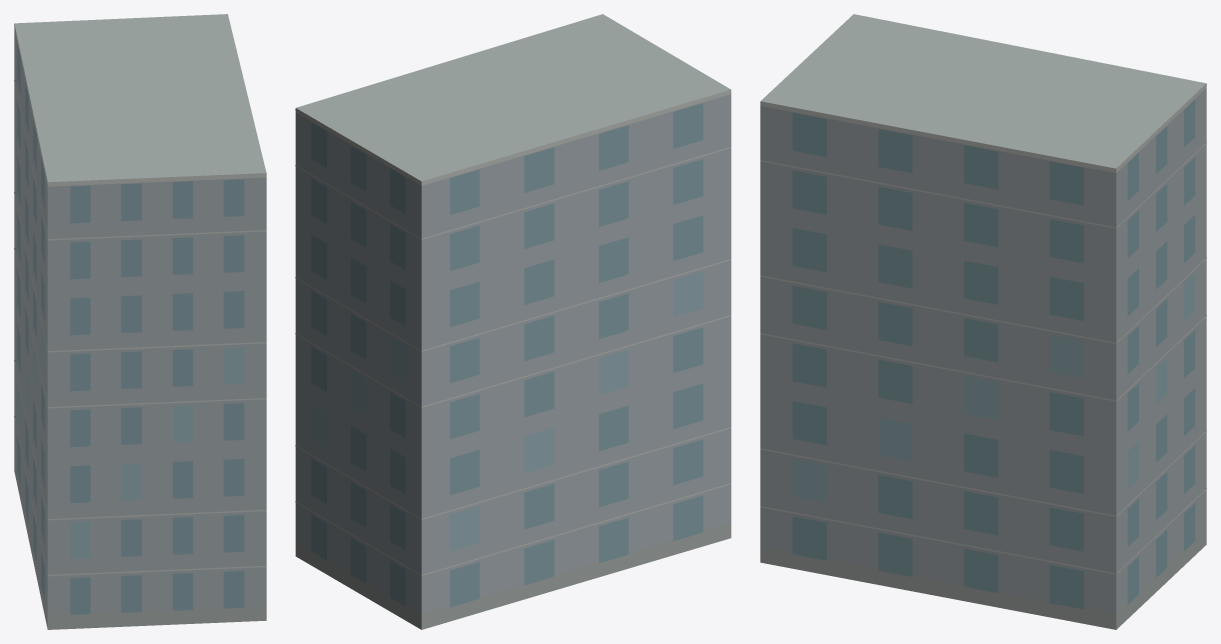
File: survey-upis-32734847.glb
The picture shows the model from 3 angles, left to right: view 1: azimuth 30°, elevation 25°; view 2: azimuth 150°, elevation 25°; view 3: azimuth 270°, elevation 25°; orthographic projection. The views are drawn at different scales.
Parts seen in each view (by area): view 1: survey-upis-32734847.tmp; view 2: survey-upis-32734847.tmp; view 3: survey-upis-32734847.tmp.
Boxes of the visible parts, x1,y1,x2,y2 form: survey-upis-32734847.tmp: (14,14,266,629); survey-upis-32734847.tmp: (295,14,731,629); survey-upis-32734847.tmp: (760,14,1206,629).
Size of the model in its own units: 17.71 by 24.6 by 21.59.
